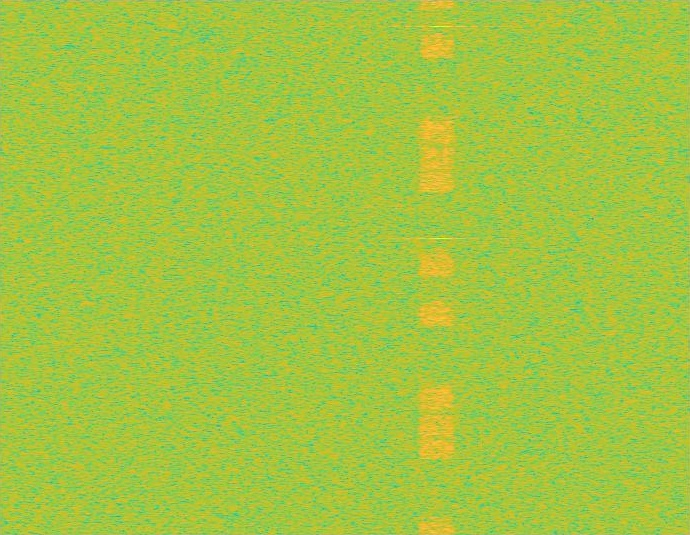LTE: (420, 0, 454, 534)
Radar: (434, 0, 448, 534)
